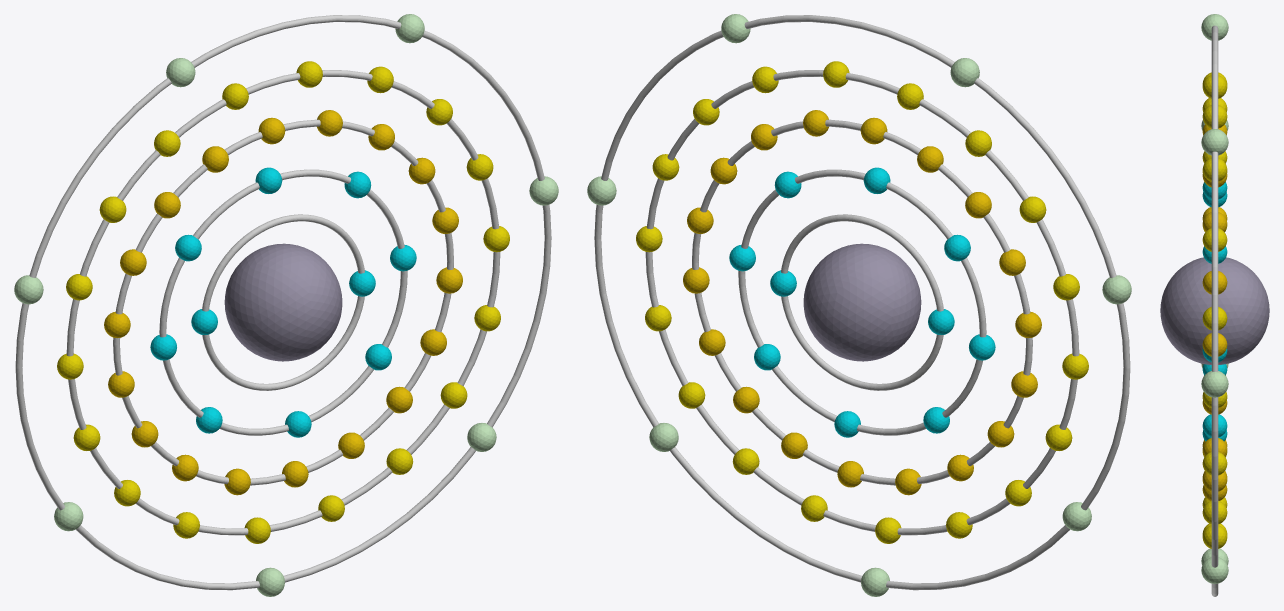
3 views of the same model, side by side, from view 1: azimuth 30°, elevation 25°; view 2: azimuth 150°, elevation 25°; view 3: azimuth 270°, elevation 25° (orthographic). The views are drawn at different scales.
Visible parts, largest first — view 1: world; view 2: world; view 3: world.
Boxes of the visible parts, x1=… form: world: x1=14, y1=14, x2=558, y2=596; world: x1=587, y1=14, x2=1131, y2=596; world: x1=1160, y1=14, x2=1269, y2=596.
Bounding box in the file's own units: 2.33 × 2.35 × 0.44.
